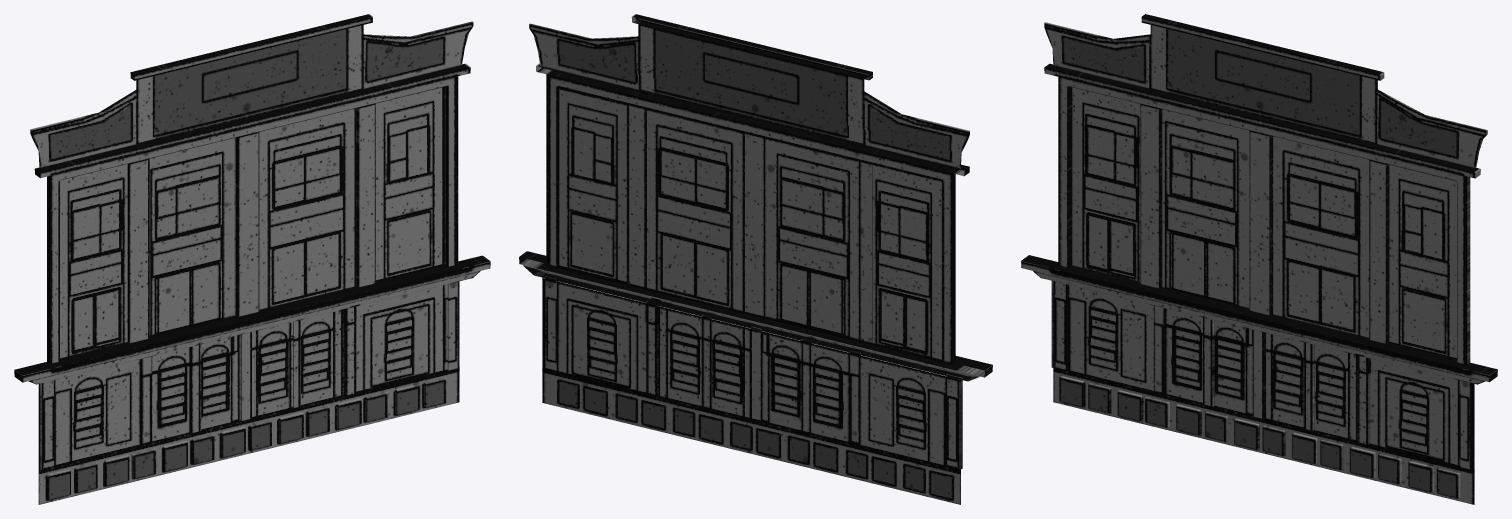
Rendered from building4.obj.
The picture shows the model from 3 angles, left to right: view 1: azimuth 30°, elevation 25°; view 2: azimuth 150°, elevation 25°; view 3: azimuth 330°, elevation 25°; orthographic projection.
Parts seen in each view (by area): view 1: building4; view 2: building4; view 3: building4.
Part boxes in pixels (bbox=[...]): building4: bbox=[14, 14, 490, 504]; building4: bbox=[519, 14, 992, 504]; building4: bbox=[1021, 14, 1497, 504].
Bounding box in the file's own units: 5.14 × 4.3 × 0.1527.
